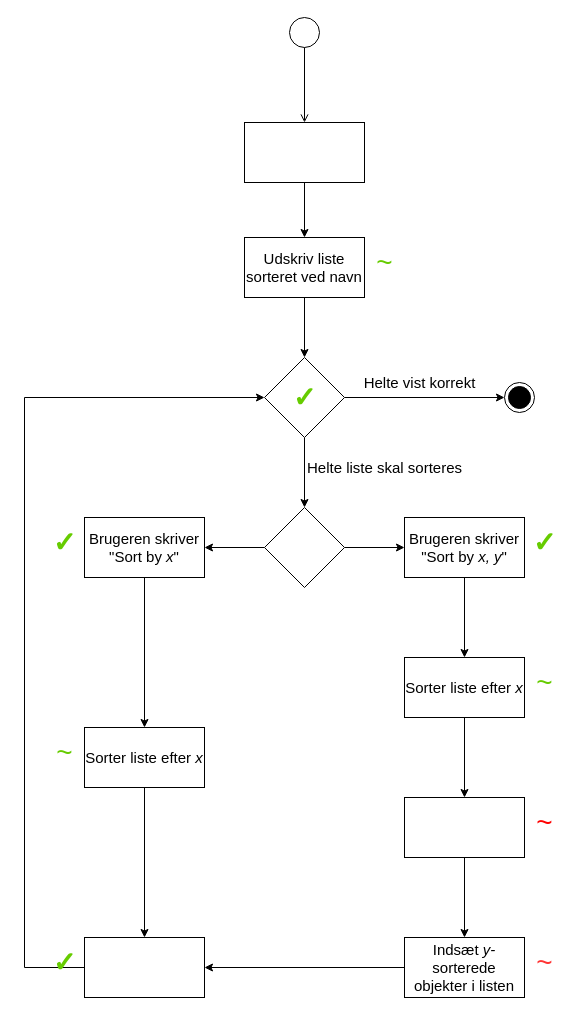
The diagram is 582 pixels wide and 1015 high, and some of its shapes have lost their labels. The shapes that lost their labels are listed below. From the top down, each one's box as (x1, y1, x2, y2) in pixels, then its label:
(244, 122, 364, 182): View superheroes
(404, 796, 524, 858): Sorter gentagne objekter efter y
(84, 936, 204, 998): Udskriv sorteret liste
